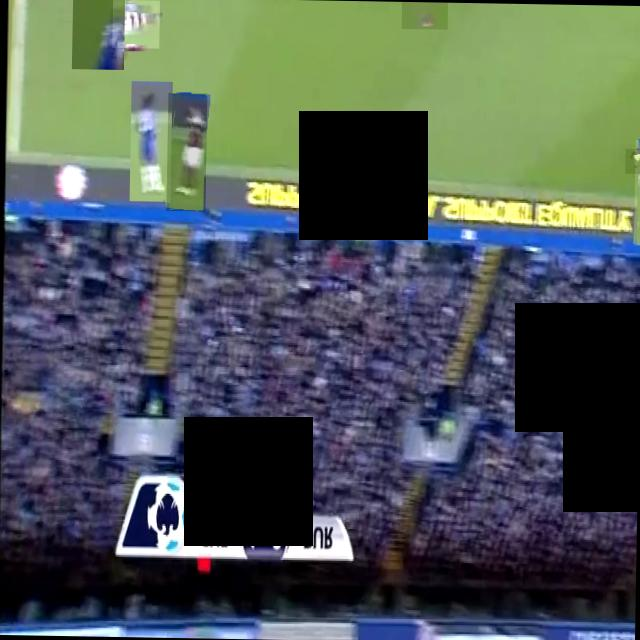ball: (625, 148, 640, 173)
soccer-player: (130, 80, 172, 202), (166, 91, 207, 210), (71, 0, 124, 69), (111, 0, 159, 48), (402, 2, 448, 30), (633, 139, 640, 245)
